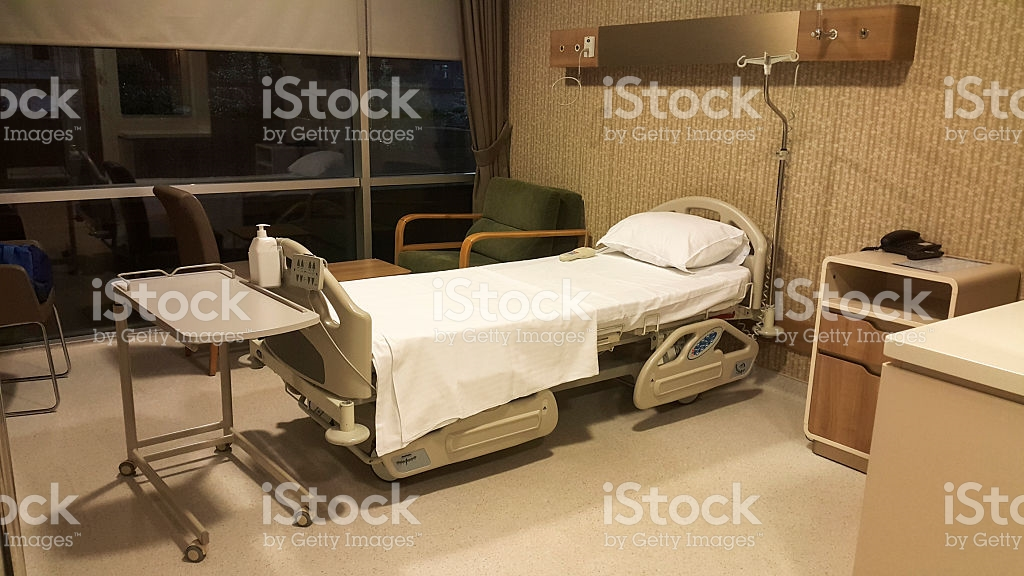hospital bed: (289, 208, 747, 426)
